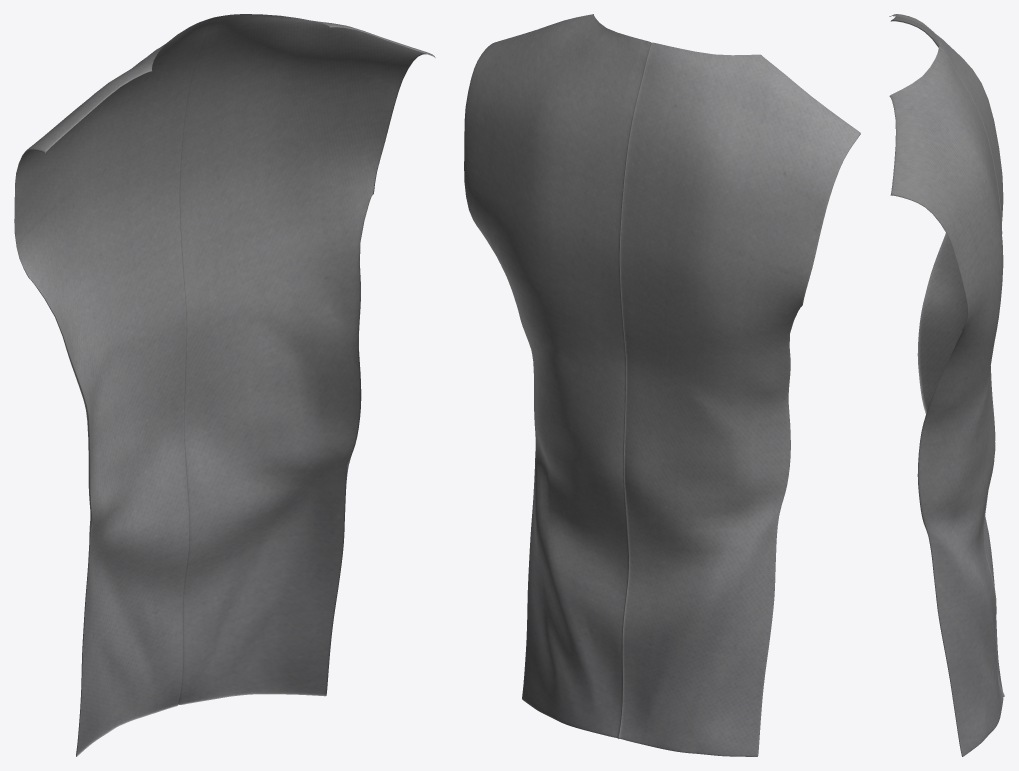
Rendered from Full_Linning.glb.
3 renders of one model, left to right at view 1: azimuth 30°, elevation 25°; view 2: azimuth 150°, elevation 25°; view 3: azimuth 270°, elevation 25°, orthographic. The views are drawn at different scales.
Parts seen in each view (by area): view 1: Full_Lined; view 2: Full_Lined; view 3: Full_Lined.
Boxes of the visible parts, box(x1,y1,x2,y2) form: Full_Lined: box(14, 14, 435, 756); Full_Lined: box(464, 14, 860, 756); Full_Lined: box(889, 14, 1004, 756).
Bounding box in the file's own units: 0.0589 × 0.1027 × 0.0164.
1 material, 1 textured.
